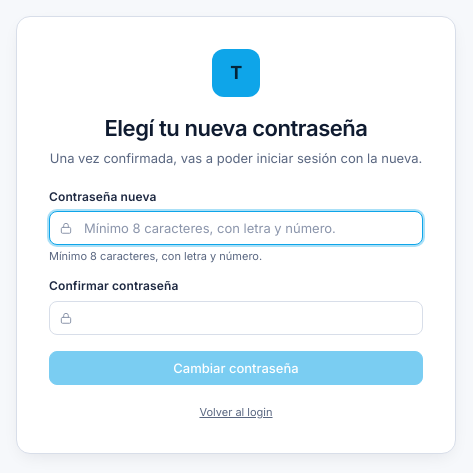
ResetPassword › 401 EXPIRED_RESET_TOKEN muestra mensaje de link vencido
In the password field labelled "Contraseña nueva": (236, 228) [49, 211, 423, 245], type "MiPass123"
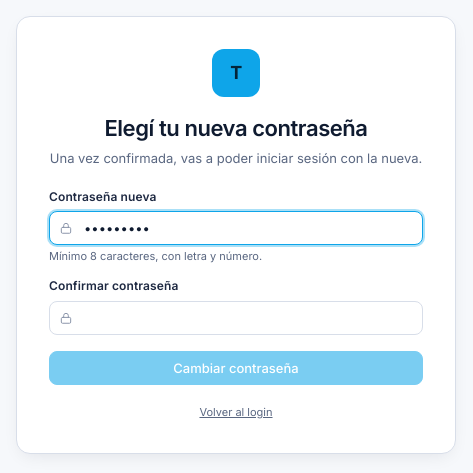
In the password field labelled "Confirmar contraseña": (236, 318) [49, 301, 423, 335], type "MiPass123"
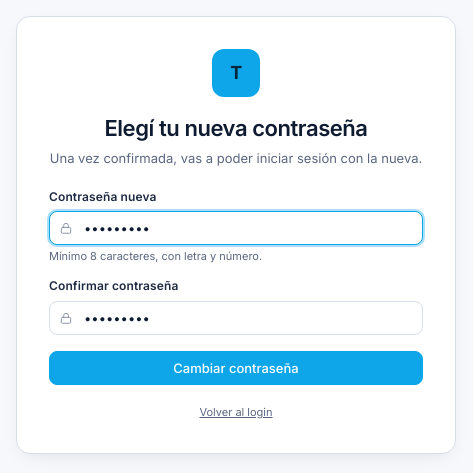
Click the button "Cambiar contraseña": (236, 368) [49, 351, 423, 385]
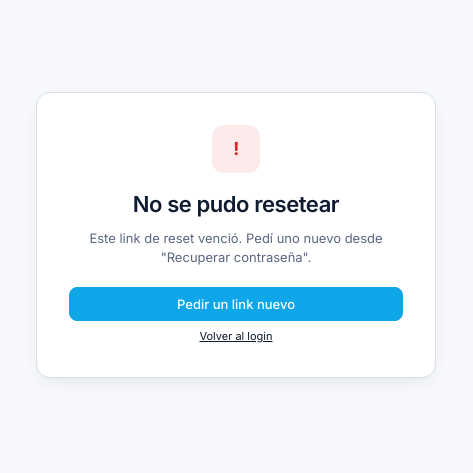
Check: the message shows "No se pudo resetear", box [133, 191, 339, 217]
Check: the text "link de reset venció" is shown, box [89, 230, 383, 265]
Check: the label labelled "Contraseña nueva" is gone
